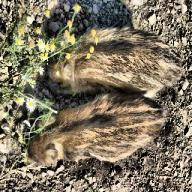boar: (26, 92, 166, 168)
